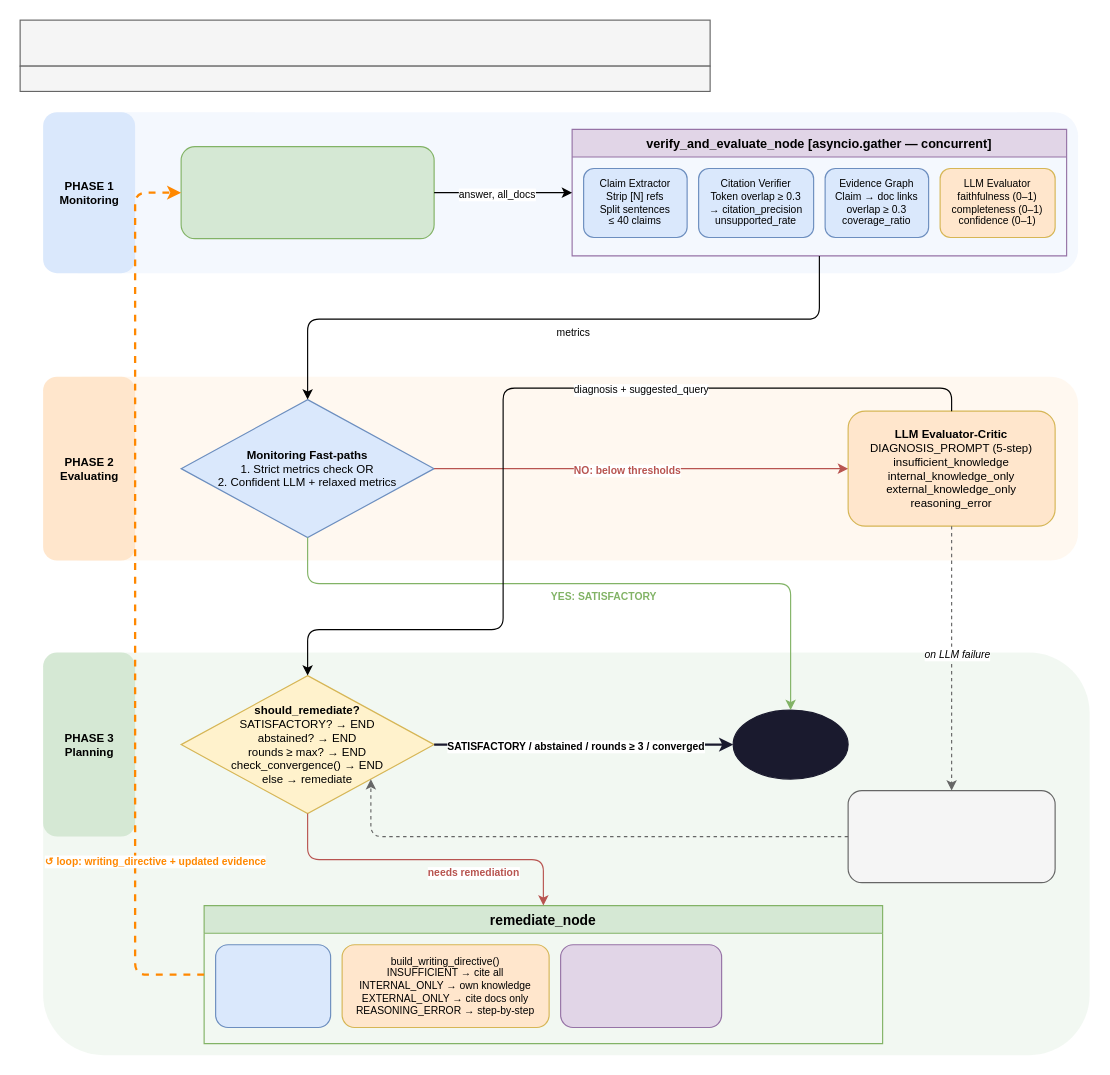
Image size: 1110x1075. Some labels were removed from this diagram. Here are the shapes that lost their labels. From the top down, the centre of each, then its label:
(364,42): Pipeline 3 — Metacognitive Remediation Loop (MetaRAG Paper §4)
(364,78): Embedded inside Pipeline 2 — runs after write_node on every iteration
(307,192): write_node LLM generates Markdown answer (with optional writing_directive)
(790,744): END
(951,836): Heuristic Fallback Rule-based if LLM fails (threshold comparisons)
(272,986): Re-retrieve (if INSUFFICIENT) hybrid_search() + rerank + guardrails
(640,986): metacognitive_round += 1 previous_answer = current retry_count += 1
